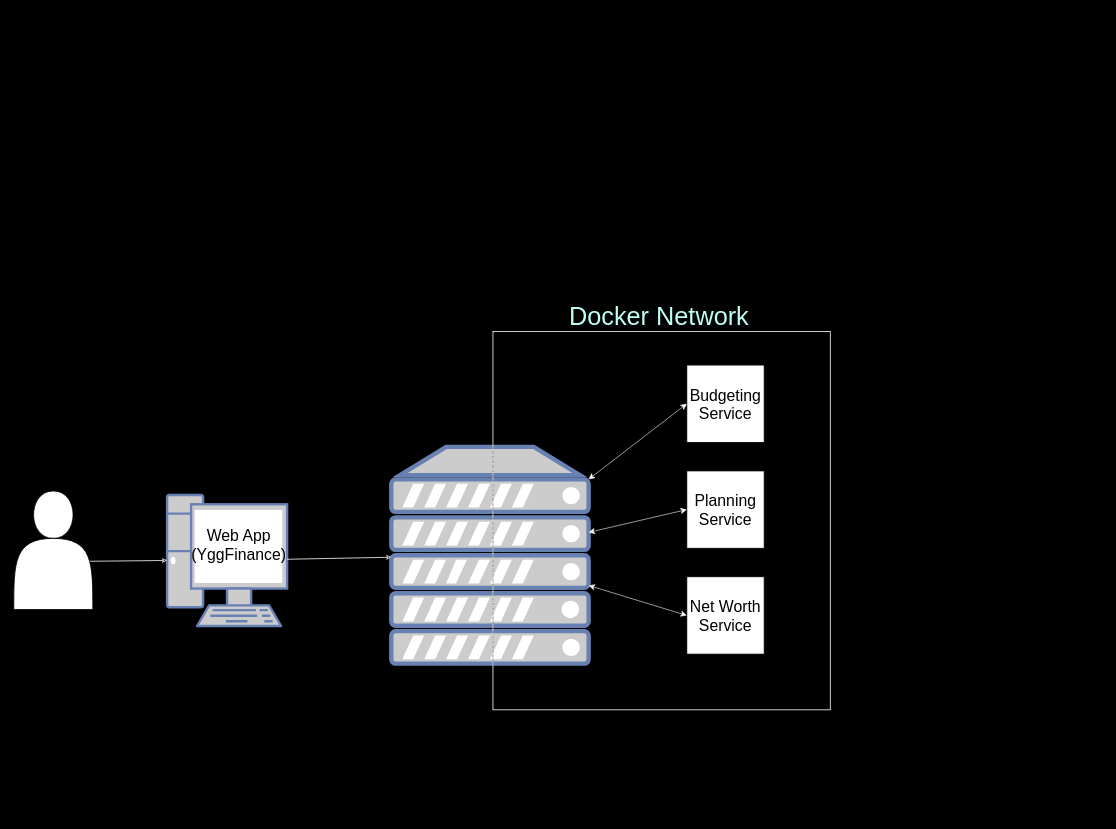
Some shapes in this 1116 by 829 pixel diagram are drawn without their labels. The centre of each missing label's shape, as x and y in pixels:
Linux-Based Server (Yggdrasil): point (489, 555)
User: point (53, 549)
